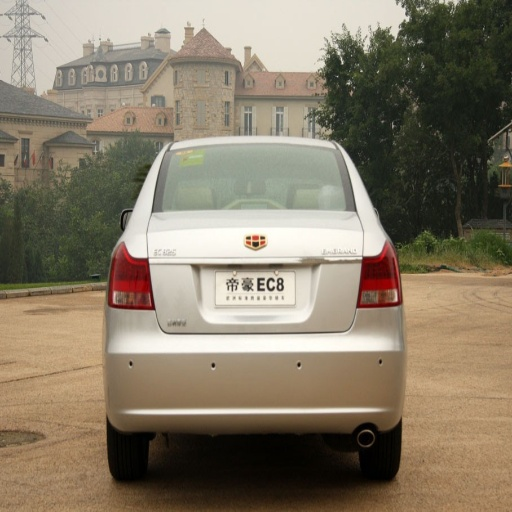back_bumper: (107, 307, 404, 436)
